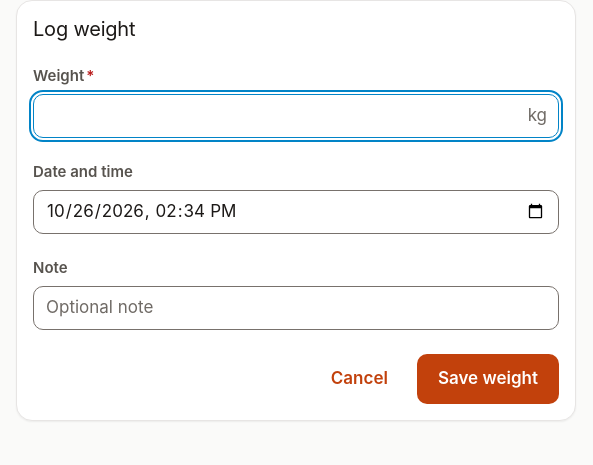
Test: rejects a negative value with its own prompt (WT-4)
Type "-5" into the field labelled "Weight*".
click(296, 116); type("-5")  # box [33, 94, 559, 138]
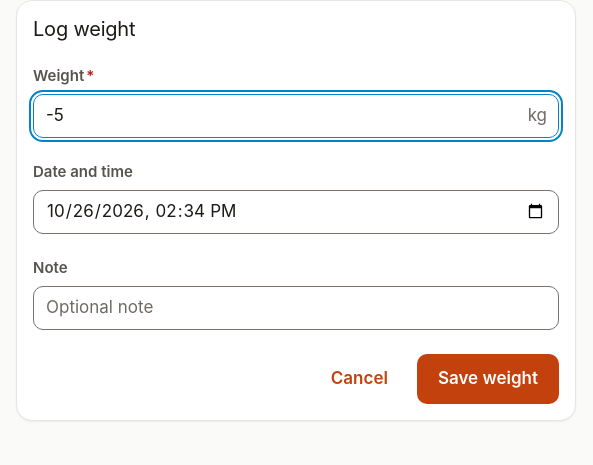
Click the button "Save weight".
click(488, 379)  # box [417, 354, 559, 404]
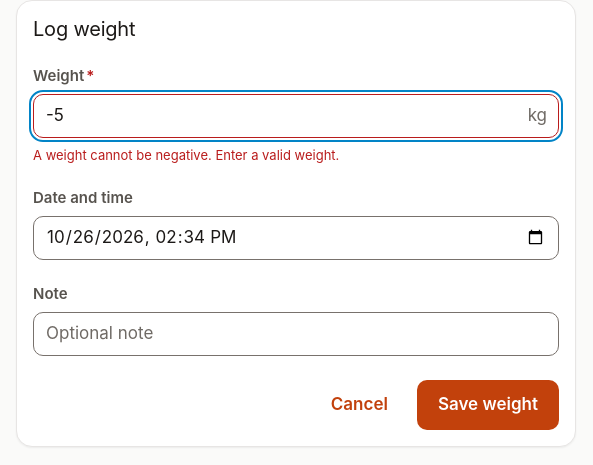
Expected: the text "A weight cannot be negative. Enter a valid weight." is shown, [33, 147, 339, 163]
